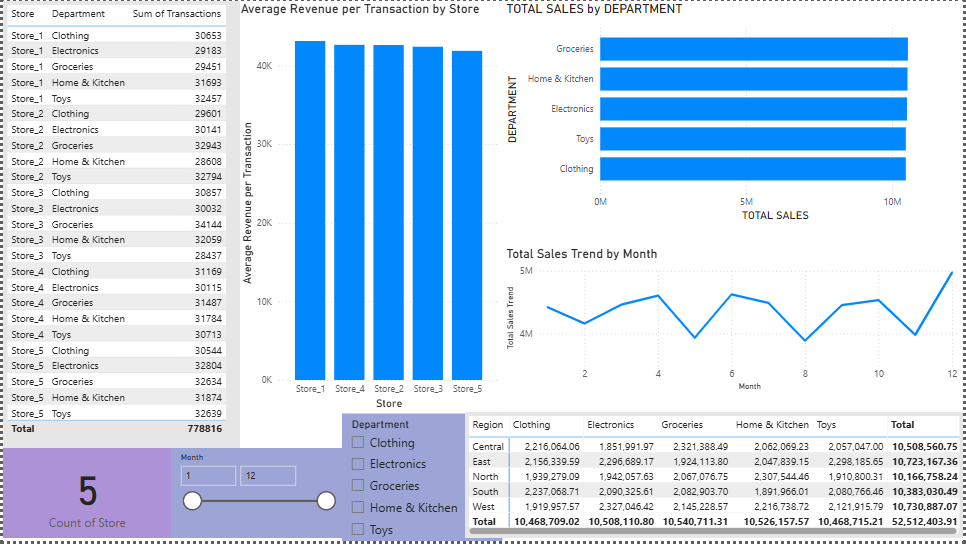

The dashboard page shown, as its layout file describes it:
{"tool":"powerbi","page":{"name":"Page 2","canvas":[1280,720],"ordinal":1},"visuals":[{"type":"card","fields":{"Values":["Count(Sheet1.Store)"]},"box":[0,596,224,120],"z":3000},{"type":"slicer","fields":{"Values":["Sheet1.Month"]},"box":[224,596,228,120],"z":4000},{"type":"slicer","fields":{"Values":["Sheet1.Department"]},"box":[452,550,214,170],"z":5000},{"type":"clusteredBarChart","fields":{"Category":["Sheet1.Department"],"Y":["Sum(Sheet1.Weekly_Sales)"]},"box":[666,0,614,298],"z":6000},{"type":"clusteredColumnChart","fields":{"Category":["Sheet1.Store"],"Y":["Sum(Sheet1.Revenue_per_Transaction)"]},"box":[312,0,354,548],"z":7000},{"type":"pivotTable","fields":{"Rows":["Sheet1.Region"],"Columns":["Sheet1.Department"],"Values":["Sum(Sheet1.Weekly_Sales)"]},"box":[616,548,664,168],"z":7001},{"type":"tableEx","fields":{"Values":["Sheet1.Store","Sheet1.Department","Sum(Sheet1.Transactions)"]},"box":[0,0,316,596],"z":7002},{"type":"lineChart","fields":{"Category":["Sheet1.Month"],"Y":["Sum(Sheet1.Weekly_Sales)"]},"box":[666,326,614,198],"z":7003}]}

Visuals, with their boxes in screenshot pixels (x1, y1, x2, y2), scaled from the page's 1280x720 canvas onto the 966x544 screenshot:
card - Count(Sheet1.Store): <region>0, 450, 169, 541</region>
slicer - Sheet1.Month: <region>169, 450, 341, 541</region>
slicer - Sheet1.Department: <region>341, 416, 503, 543</region>
clusteredBarChart - Sheet1.Department x Sum(Sheet1.Weekly_Sales): <region>503, 0, 965, 225</region>
clusteredColumnChart - Sheet1.Store x Sum(Sheet1.Revenue_per_Transaction): <region>235, 0, 503, 414</region>
pivotTable - Sheet1.Region x Sheet1.Department: <region>465, 414, 965, 541</region>
tableEx - Sheet1.Store x Sheet1.Department: <region>0, 0, 238, 450</region>
lineChart - Sheet1.Month x Sum(Sheet1.Weekly_Sales): <region>503, 246, 965, 396</region>
